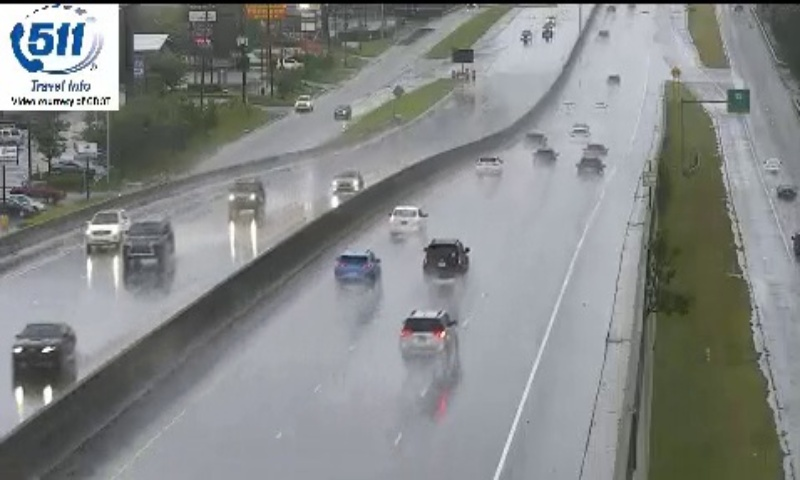car: (400, 308, 455, 356), (333, 249, 379, 287), (423, 238, 468, 276), (388, 205, 423, 236), (577, 155, 604, 180), (475, 154, 502, 175), (532, 146, 555, 167)
